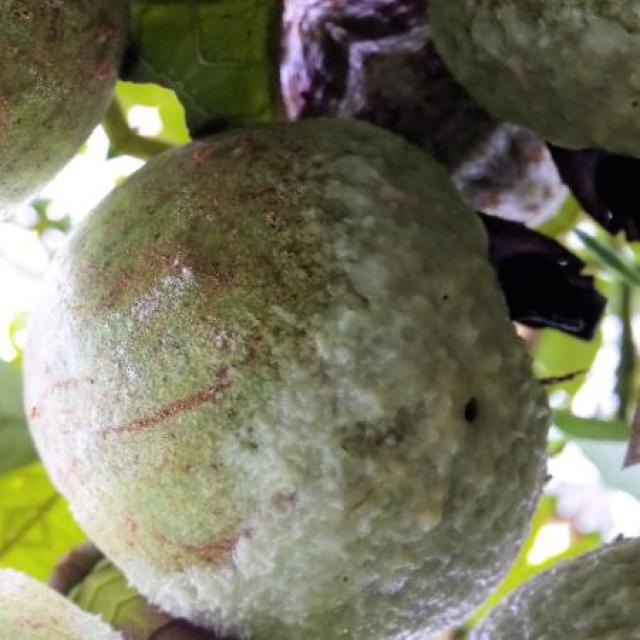Phytopthora: (26, 120, 546, 640), (431, 0, 640, 154), (0, 1, 124, 202), (475, 539, 640, 639)
